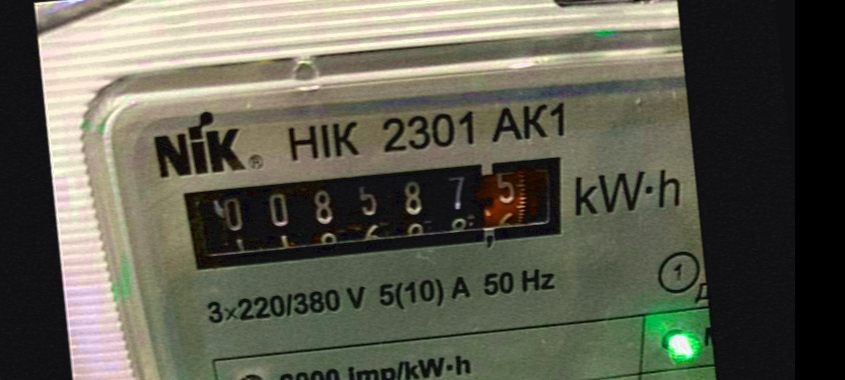0: (266, 189, 294, 231)
1: (220, 194, 248, 237)
5: (494, 167, 522, 209), (356, 181, 383, 221)
7: (445, 173, 472, 216)
8: (310, 187, 339, 230), (401, 178, 426, 221)
screen: (163, 134, 591, 295)
